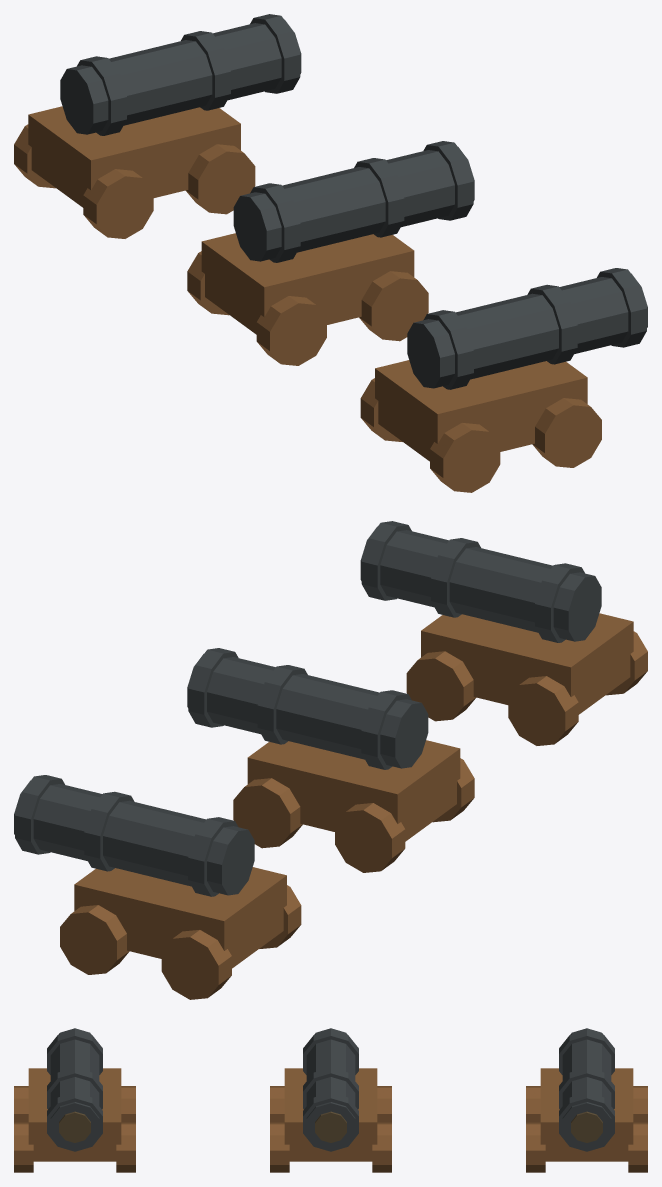
Rendered from upgrade-cannons.glb.
3 views of the same model, one above another, from view 1: azimuth 30°, elevation 25°; view 2: azimuth 150°, elevation 25°; view 3: azimuth 270°, elevation 25° (orthographic). The views are drawn at different scales.
Parts seen in each view (by area): view 1: upgrade-cannons; view 2: upgrade-cannons; view 3: upgrade-cannons.
Boxes of the visible parts, <box> form: upgrade-cannons: <box>14,14,647,492</box>; upgrade-cannons: <box>14,521,647,999</box>; upgrade-cannons: <box>14,1028,647,1172</box>.
Bounding box in the file's own units: 1.01 × 0.6 × 3.22.
